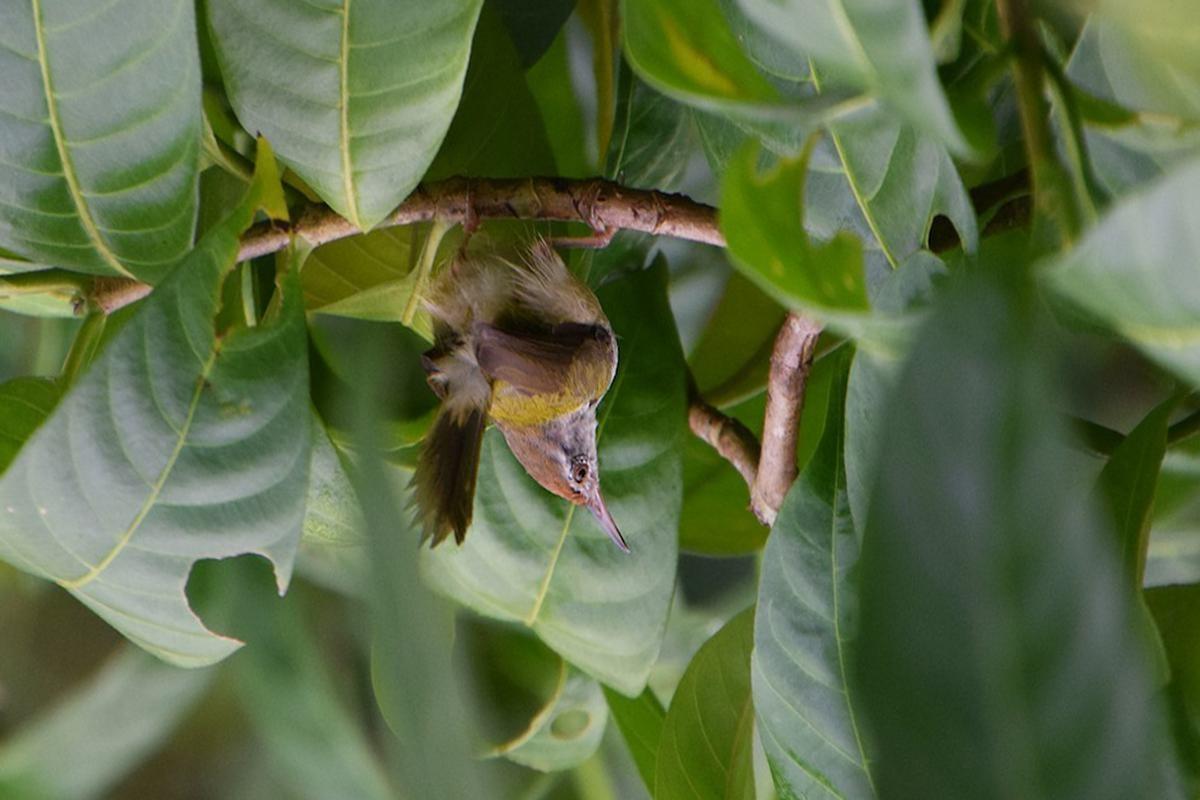tailorbird: (378, 183, 648, 543)
